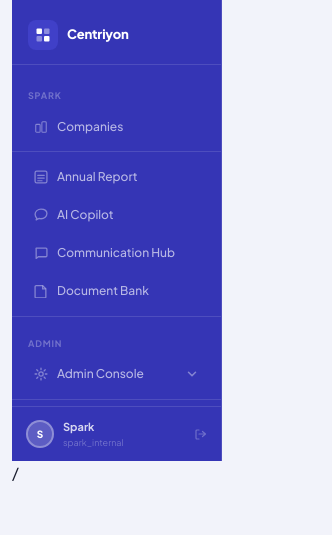
Test case: sidebar for spark_internal › reveals Departments but not Users & Roles when the console is expanded
Click the button "Admin Console" at {"x": 116, "y": 374}, box x1=20 y1=356 x2=213 y2=392
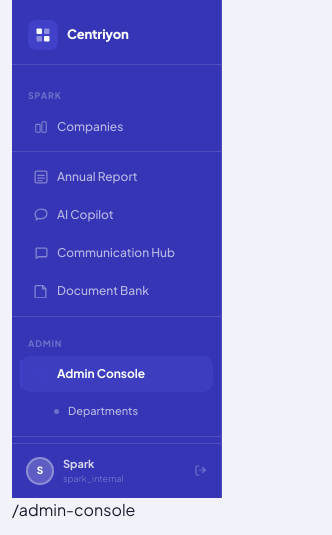
Expected: the button "Departments" is shown, x1=20 y1=394 x2=213 y2=428
